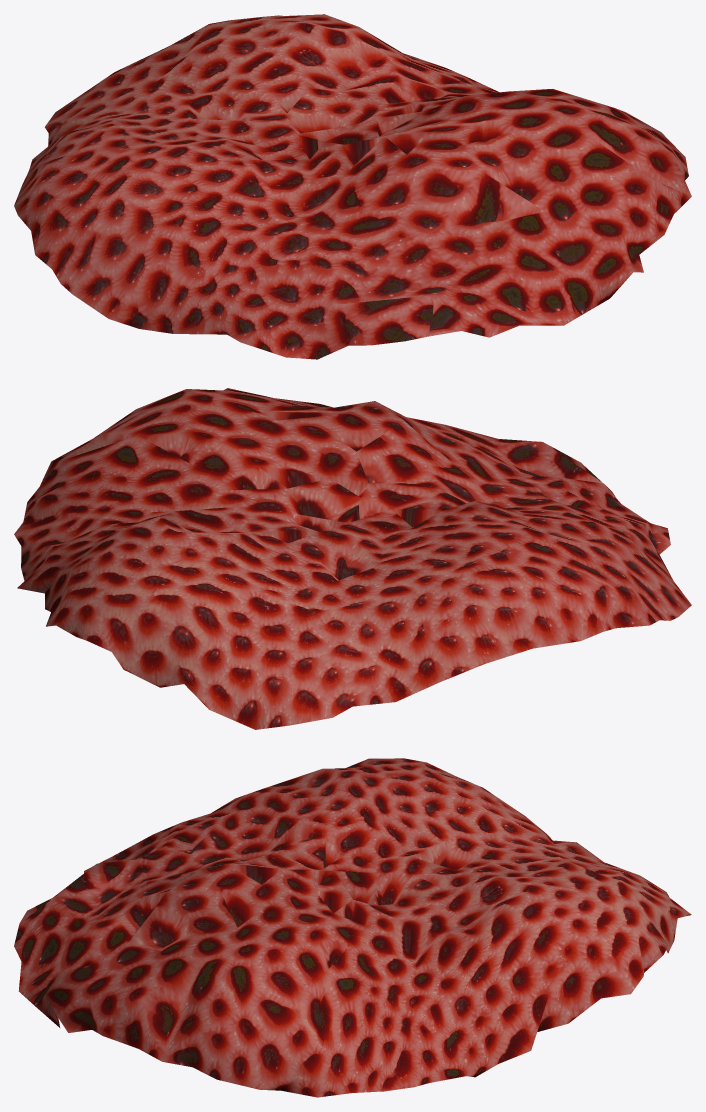
The model's file is coral_2_2_低模.fbx.
The picture shows the model from 3 angles, top to bottom: view 1: azimuth 30°, elevation 25°; view 2: azimuth 150°, elevation 25°; view 3: azimuth 270°, elevation 25°; orthographic projection. The views are drawn at different scales.
Visible parts, largest first — view 1: Coral_Low; view 2: Coral_Low; view 3: Coral_Low.
Part boxes in pixels (x1,y1,x2,y2): Coral_Low: (14, 14, 691, 359); Coral_Low: (14, 388, 691, 729); Coral_Low: (14, 758, 691, 1097).
Size of the model in its own units: 808 by 148 by 800.
Materials: 1 (1 with a texture image).
